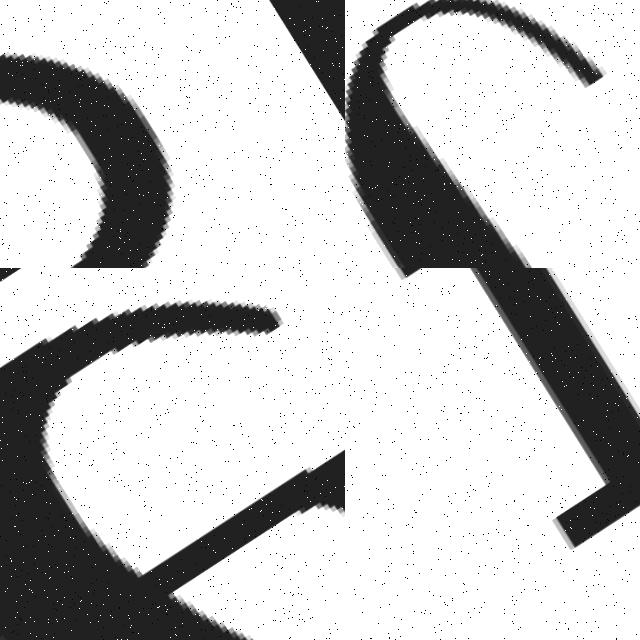5: (0, 0, 345, 268)
C: (350, 0, 611, 268)
E: (0, 294, 345, 640)
I: (345, 268, 640, 640)
